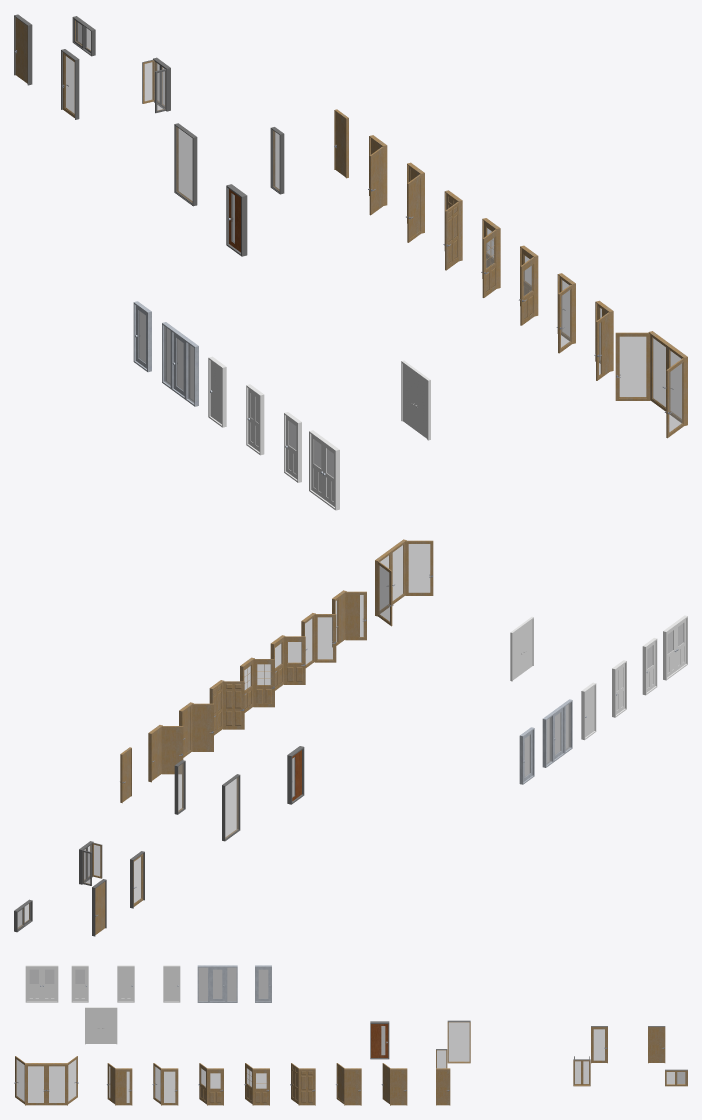
The model's file is single-door-30x84.glb.
3 renders of one model, top to bottom at view 1: azimuth 30°, elevation 25°; view 2: azimuth 150°, elevation 25°; view 3: azimuth 270°, elevation 25°, orthographic. The views are drawn at different scales.
Visible parts, largest first — view 1: Geom3D (×20); view 2: Geom3D (×16); view 3: Geom3D (×39).
Part boxes in pixels (x1=…): Geom3D (×20): x1=15, y1=17, x2=682, y2=510; Geom3D (×16): x1=161, y1=540, x2=687, y2=838; Geom3D (×39): x1=16, y1=965, x2=664, y2=1105.
Size of the model in its own units: 13.15 by 2.44 by 35.87.
Materials: 11 (5 with a texture image).
